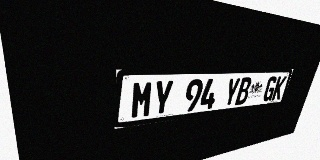4: (199, 78, 219, 110)
9: (183, 79, 204, 112)
B: (234, 77, 253, 105)
G: (262, 76, 278, 102)
K: (271, 76, 287, 100)
M: (130, 81, 154, 119)
Y: (151, 80, 174, 116), (222, 78, 241, 107)
